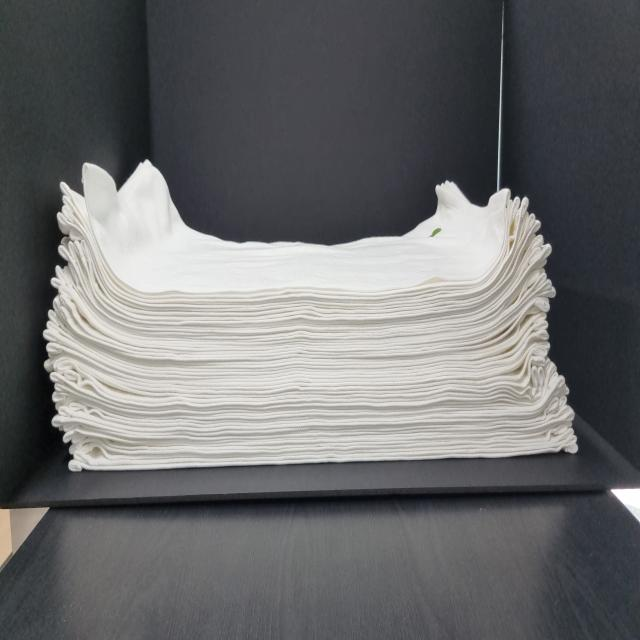50_towel_counts: (27, 124, 601, 474)
